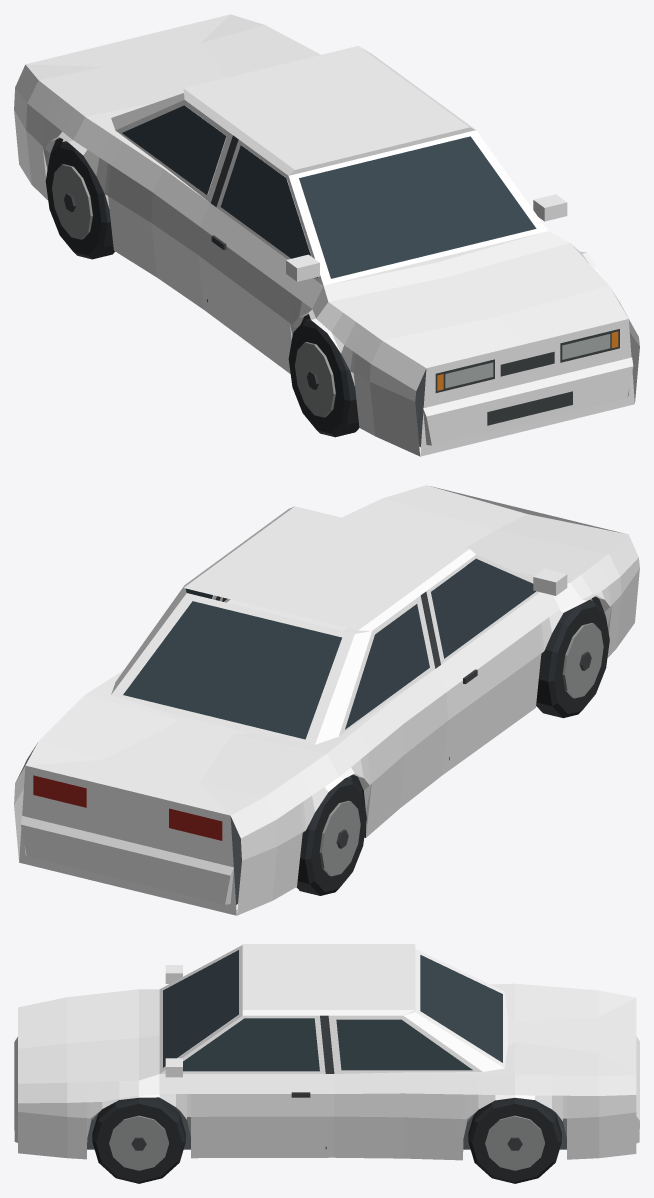
File: tokiwa_kazaguruma.glb
3 renders of one model, top to bottom at view 1: azimuth 30°, elevation 25°; view 2: azimuth 150°, elevation 25°; view 3: azimuth 270°, elevation 25°, orthographic. The views are drawn at different scales.
Visible parts, largest first — view 1: tokiwa_kazaguruma; view 2: tokiwa_kazaguruma; view 3: tokiwa_kazaguruma.
Part boxes in pixels (x1,y1,x2,y2): tokiwa_kazaguruma: (14,14,639,456); tokiwa_kazaguruma: (14,485,639,915); tokiwa_kazaguruma: (14,944,639,1183).
Bounding box in the file's own units: 1.7 × 1.2 × 4.31.
Materials: 8 (1 with a texture image).
